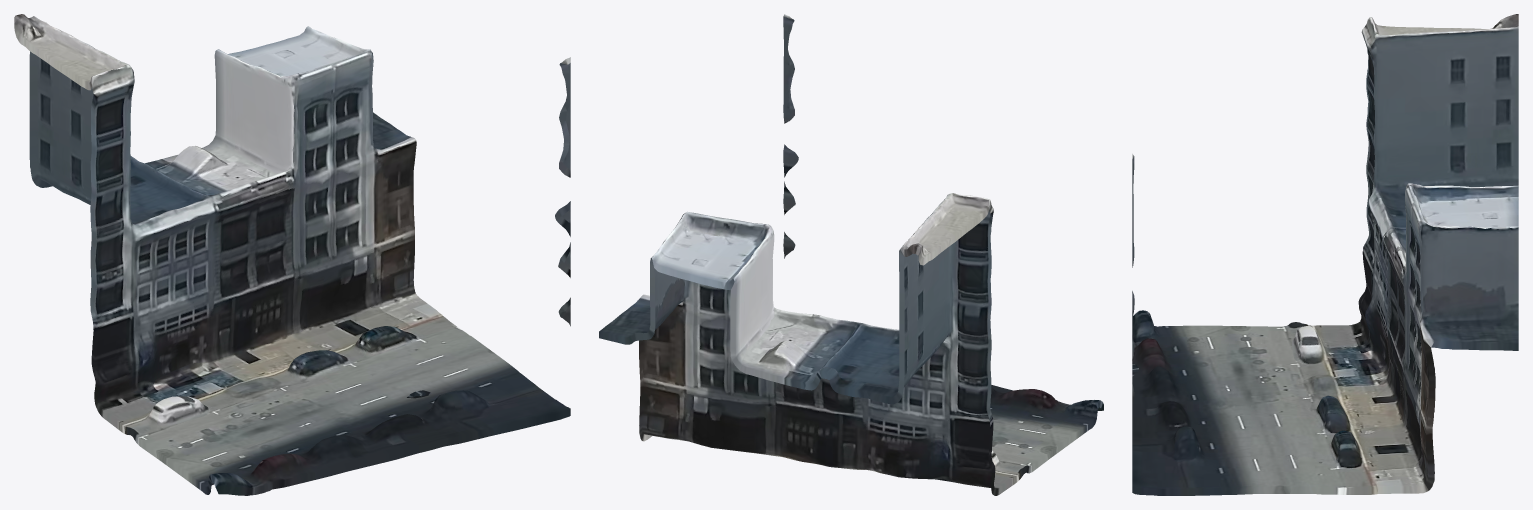
File: z20-167760-405240-h0-yup-uvflip-v3-world.glb
The picture shows the model from 3 angles, left to right: view 1: azimuth 30°, elevation 25°; view 2: azimuth 150°, elevation 25°; view 3: azimuth 270°, elevation 25°; orthographic projection. The views are drawn at different scales.
Size of the model in its own units: 30.16 by 29.56 by 30.32.
Materials: 1 (1 with a texture image).
